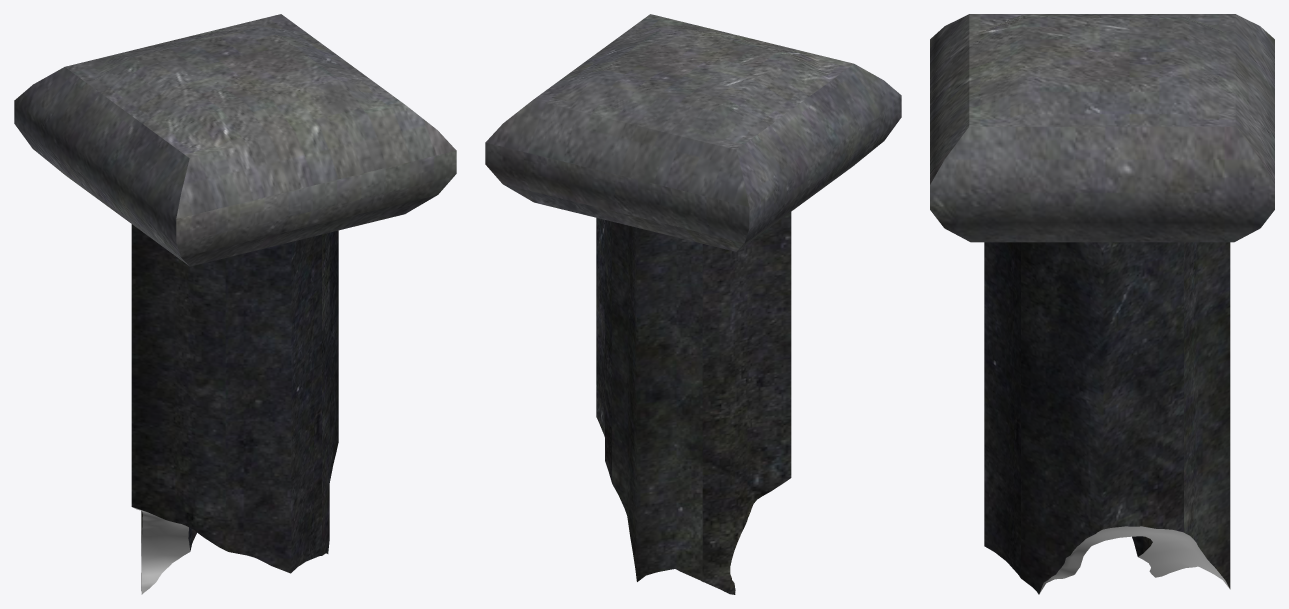
The model's file is pillarbroken1.fbx.
The picture shows the model from 3 angles, left to right: view 1: azimuth 30°, elevation 25°; view 2: azimuth 150°, elevation 25°; view 3: azimuth 270°, elevation 25°; orthographic projection. The views are drawn at different scales.
Parts seen in each view (by area): view 1: polySurface29; view 2: polySurface29; view 3: polySurface29.
Boxes of the visible parts, <box> form: polySurface29: <box>14,14,456,594</box>; polySurface29: <box>485,14,901,594</box>; polySurface29: <box>930,14,1274,594</box>.
Bounding box in the file's own units: 3.42 × 6.13 × 3.42.
